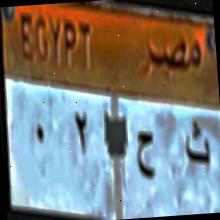0: (30, 108, 50, 164)
2: (66, 108, 96, 163)
7aa: (126, 120, 166, 194)
thaa: (182, 118, 216, 182)
